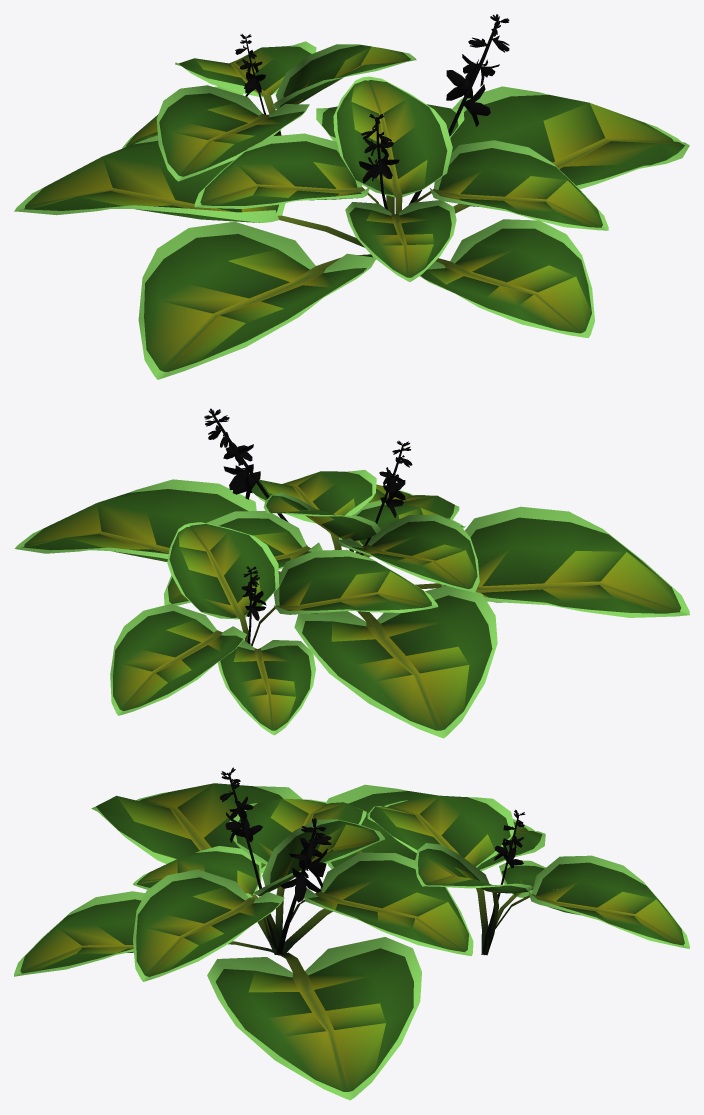
The model's file is Hosta_GF_04.fbx.
The picture shows the model from 3 angles, top to bottom: view 1: azimuth 30°, elevation 25°; view 2: azimuth 150°, elevation 25°; view 3: azimuth 270°, elevation 25°; orthographic projection. The views are drawn at different scales.
Visible parts, largest first — view 1: Hosta_G_04; view 2: Hosta_G_04; view 3: Hosta_G_04.
Boxes of the visible parts, <box> form: Hosta_G_04: <box>14,14,689,379</box>; Hosta_G_04: <box>14,408,689,738</box>; Hosta_G_04: <box>14,767,689,1100</box>.
Size of the model in its own units: 113 by 34.26 by 108.
